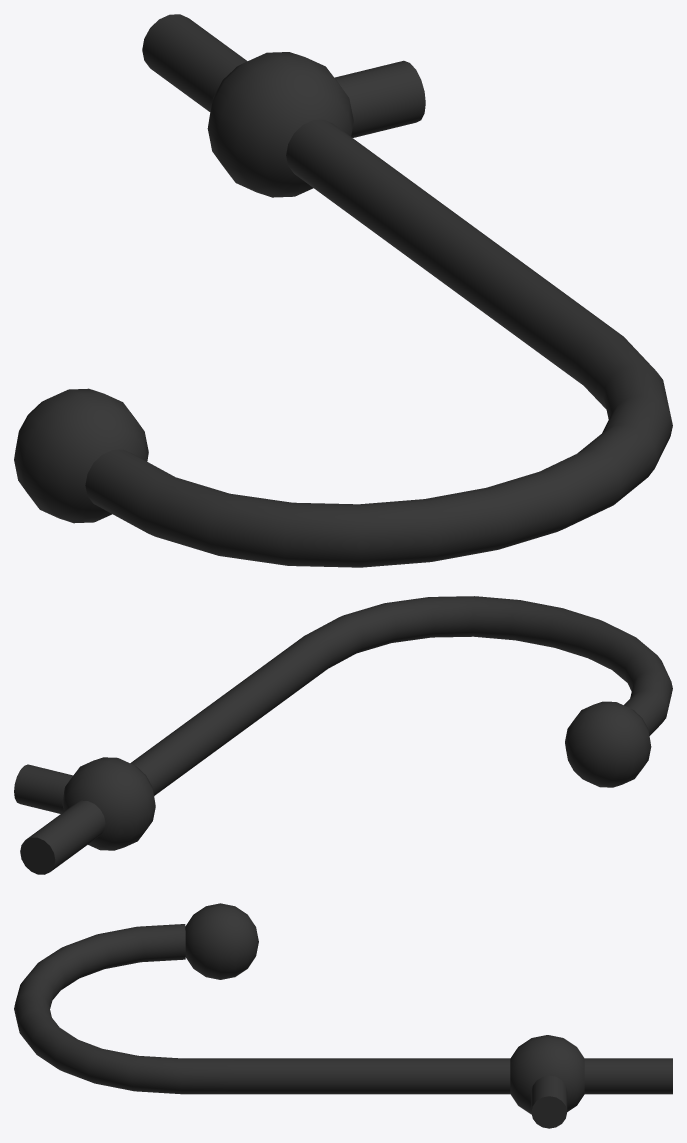
The model's file is Grosse_Glocke_x470_y670.obj.
3 renders of one model, top to bottom at view 1: azimuth 30°, elevation 25°; view 2: azimuth 150°, elevation 25°; view 3: azimuth 270°, elevation 25°, orthographic. The views are drawn at different scales.
Visible parts, largest first — view 1: Ausleger_Große__Glocke_Curve.001, Große_Glocke_große_Kugel, Große__Glocke_kleine_Kugel, Große_GlockeHalterohr; view 2: Ausleger_Große__Glocke_Curve.001, Große__Glocke_kleine_Kugel, Große_Glocke_große_Kugel, Große_GlockeHalterohr; view 3: Ausleger_Große__Glocke_Curve.001, Große__Glocke_kleine_Kugel, Große_Glocke_große_Kugel, Große_GlockeHalterohr.
Part boxes in pixels (box(x1,y1,x2,y2)): Ausleger_Große__Glocke_Curve.001: box(85, 14, 672, 567); Große_Glocke_große_Kugel: box(207, 52, 353, 197); Große__Glocke_kleine_Kugel: box(14, 388, 148, 523); Große_GlockeHalterohr: box(334, 60, 425, 137); Ausleger_Große__Glocke_Curve.001: box(20, 596, 672, 874); Große__Glocke_kleine_Kugel: box(565, 701, 651, 787); Große_Glocke_große_Kugel: box(62, 757, 155, 850); Große_GlockeHalterohr: box(14, 764, 72, 813); Ausleger_Große__Glocke_Curve.001: box(14, 924, 672, 1094); Große__Glocke_kleine_Kugel: box(185, 903, 258, 979); Große_Glocke_große_Kugel: box(510, 1035, 584, 1114); Große_GlockeHalterohr: box(531, 1075, 567, 1128).
Size of the model in its own units: 0.6912 by 0.13 by 1.03.
Materials: 1 (1 with a texture image).
